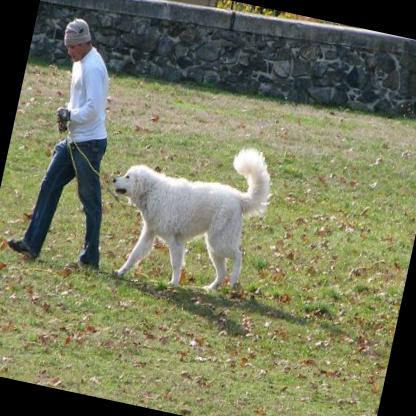kuvasz: (90, 116, 279, 304)
